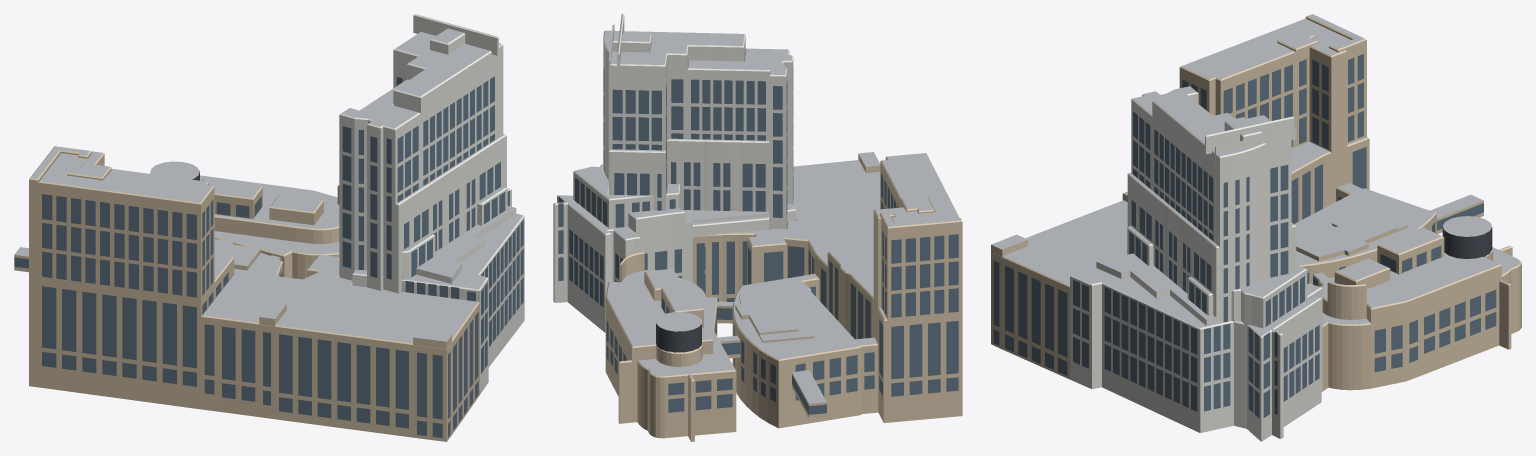
The picture shows the model from 3 angles, left to right: view 1: azimuth 30°, elevation 25°; view 2: azimuth 150°, elevation 25°; view 3: azimuth 270°, elevation 25°; orthographic projection. The views are drawn at different scales.
Parts seen in each view (by area): view 1: epicentre-queen-city-quarter; view 2: epicentre-queen-city-quarter; view 3: epicentre-queen-city-quarter.
Boxes of the visible parts, x1,y1,x2,y2 form: epicentre-queen-city-quarter: (14,14,524,441); epicentre-queen-city-quarter: (553,14,962,441); epicentre-queen-city-quarter: (991,14,1521,441).
Bounding box in the file's own units: 155 × 93 × 156.
